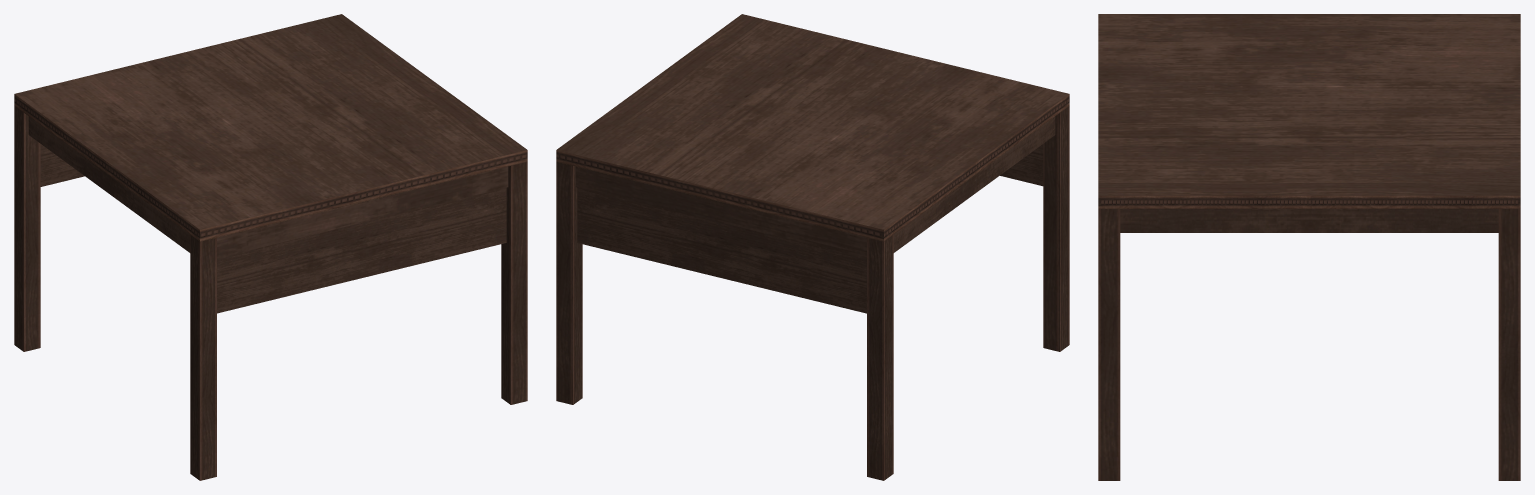
The model's file is ExporLibraryHallTable.FBX.
The picture shows the model from 3 angles, left to right: view 1: azimuth 30°, elevation 25°; view 2: azimuth 150°, elevation 25°; view 3: azimuth 270°, elevation 25°; orthographic projection. The views are drawn at different scales.
Parts seen in each view (by area): view 1: lib_computer_table; view 2: lib_computer_table; view 3: lib_computer_table.
Boxes of the visible parts, bbox=[...] form: lib_computer_table: bbox=[14, 14, 527, 480]; lib_computer_table: bbox=[556, 14, 1069, 480]; lib_computer_table: bbox=[1098, 14, 1520, 480].
Size of the model in its own units: 55 by 54.02 by 40.27.
